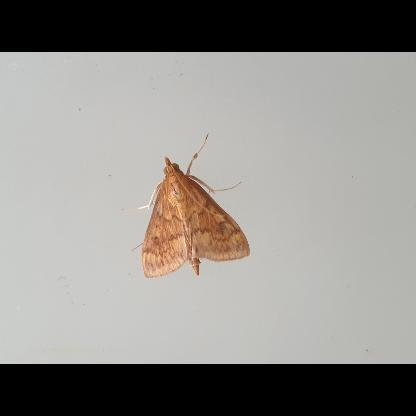Asian Corn Borer Moth: (120, 131, 252, 281)
